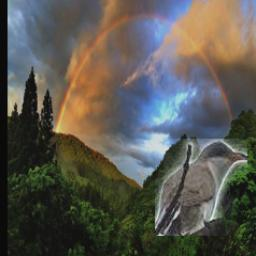Cuckoo: (155, 140, 247, 237)
